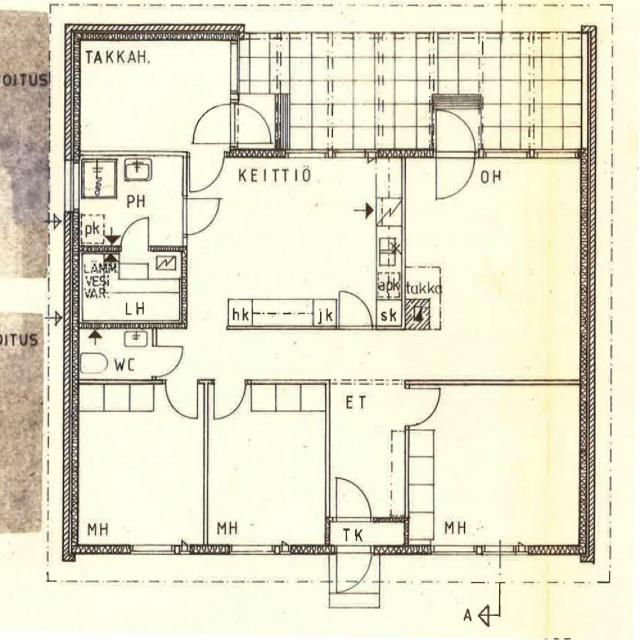door: (436, 106, 475, 158), (436, 149, 475, 201), (230, 103, 280, 143), (194, 103, 244, 143), (336, 545, 372, 593), (190, 151, 224, 196), (404, 388, 444, 426), (337, 480, 371, 523), (182, 198, 221, 235), (165, 379, 198, 420), (214, 379, 246, 419), (340, 290, 372, 330), (120, 215, 148, 252), (152, 346, 183, 376)
